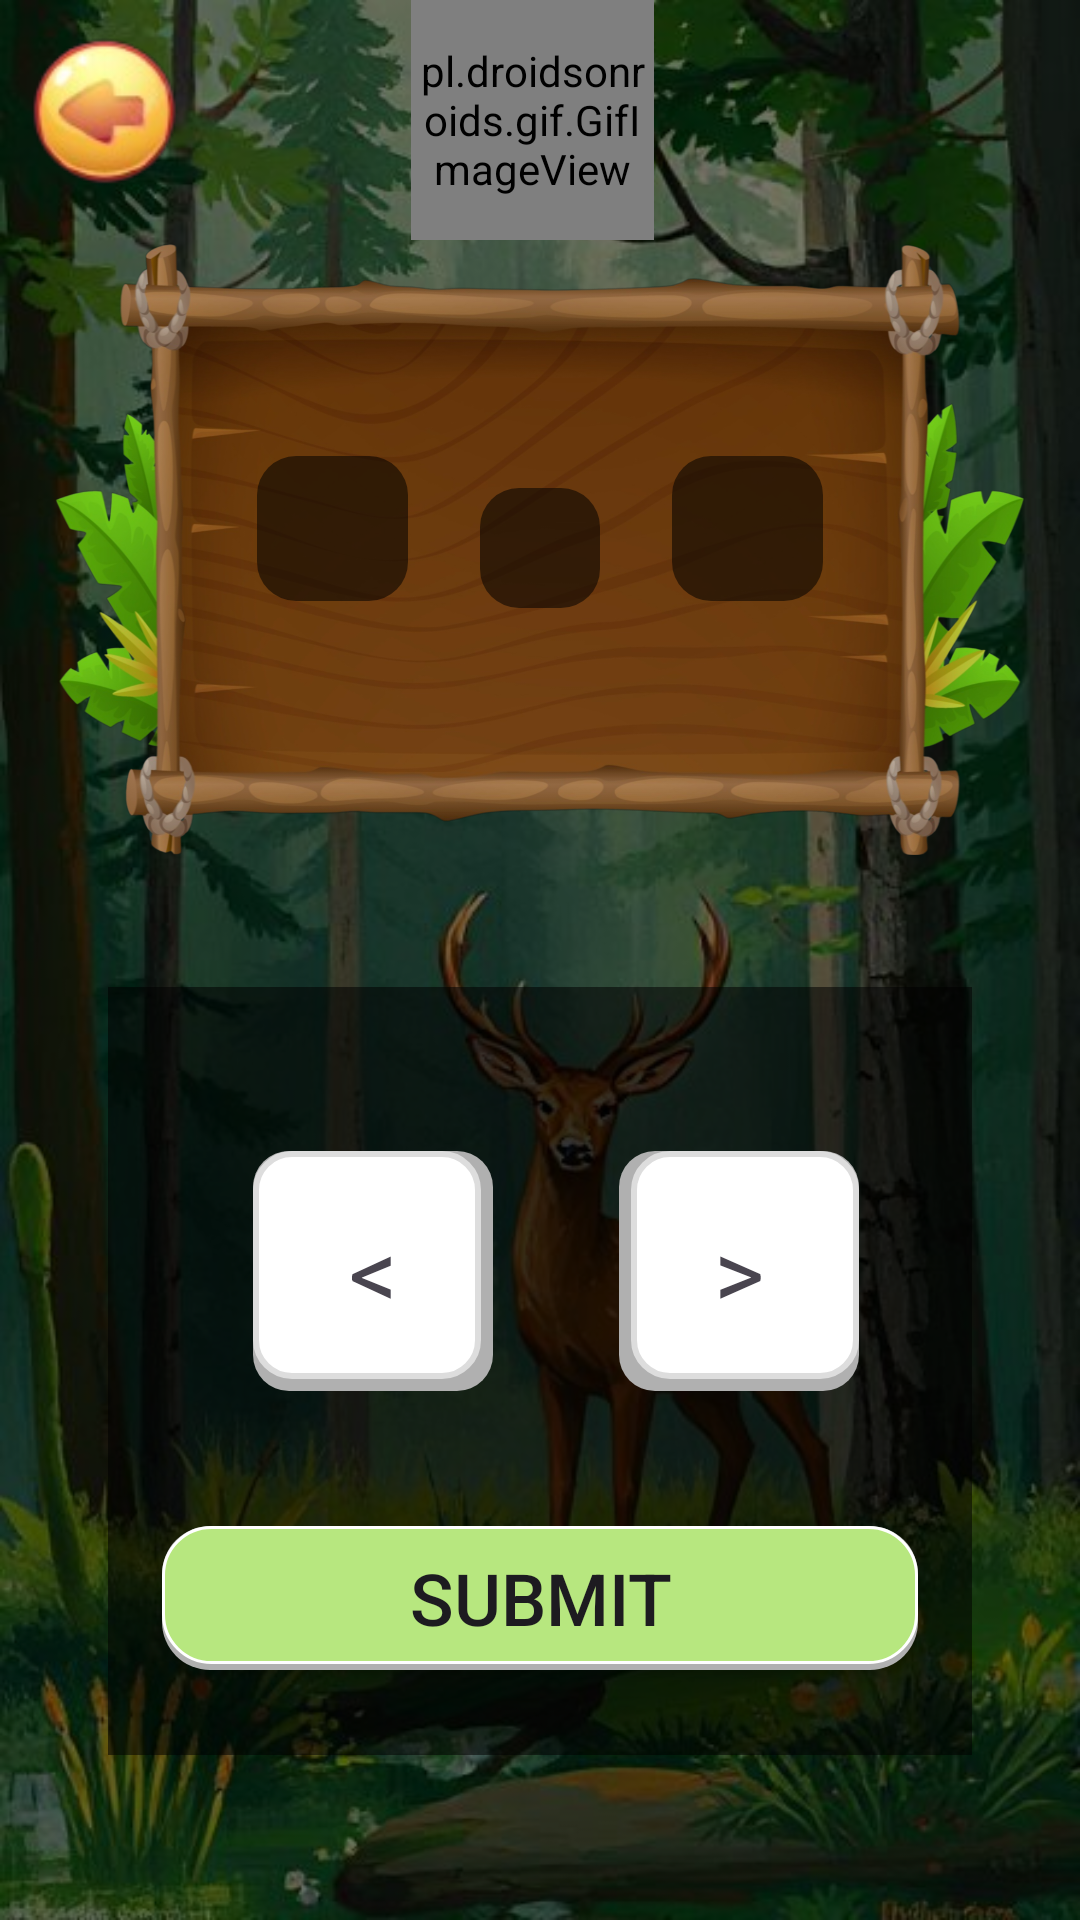

Point at icon controls on the screen. Image size 1080px x 1920px, points as [x,y].
Go Back Button: [103,109]
